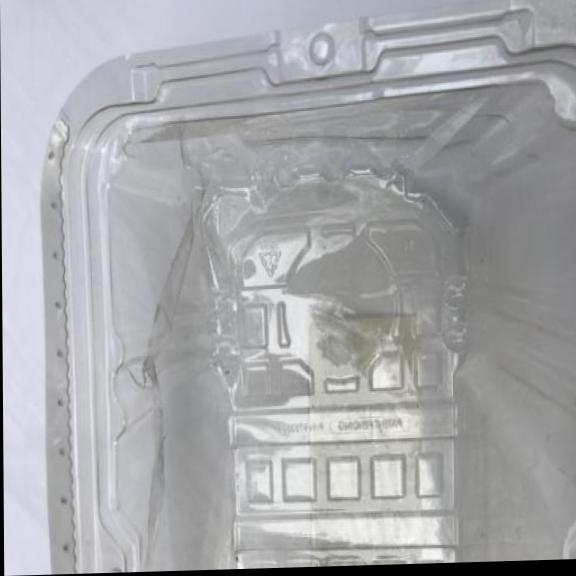Plastik: (40, 0, 576, 574)
